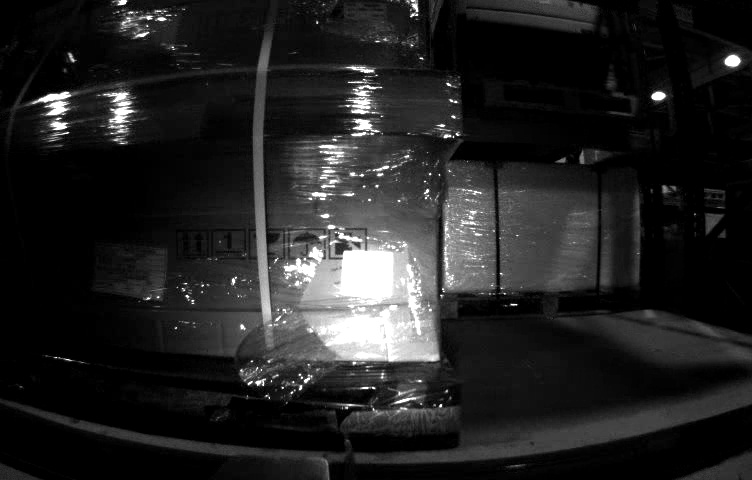True Barcode: (338, 250, 394, 297)
